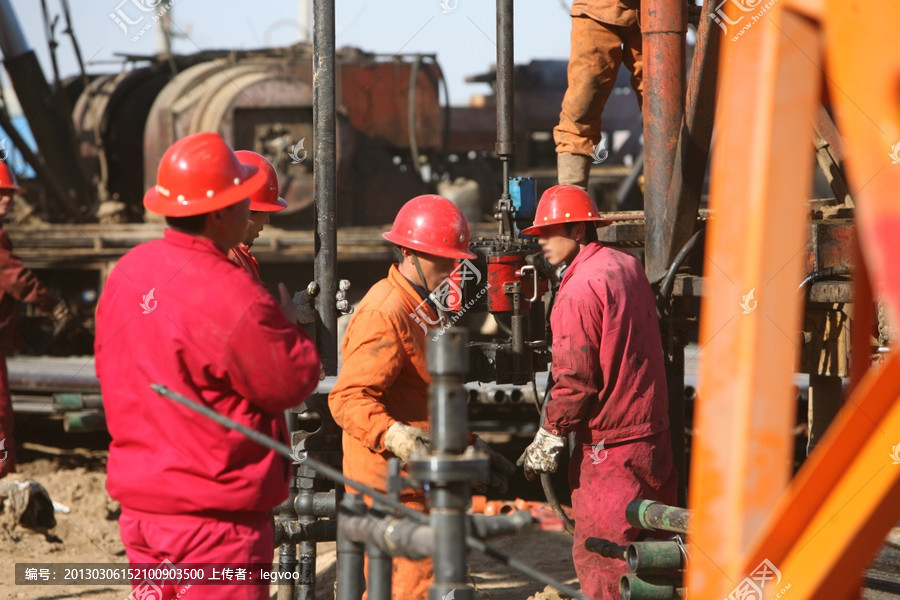safetyhat: (98, 129, 320, 502), (324, 176, 494, 467), (509, 174, 666, 482)
